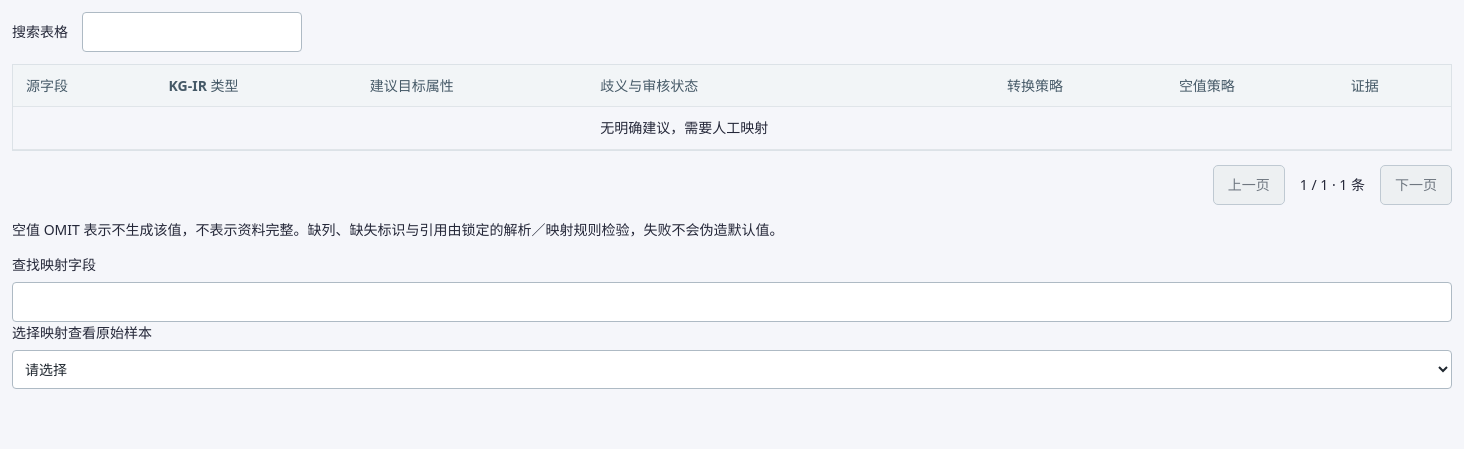
does not replace absent sample authority with a different successful ingestion
Step 1. Select "→ 待映射 · map-1" in the dropdown labelled "选择映射查看原始样本" → (732, 369), box x1=12 y1=350 x2=1452 y2=388
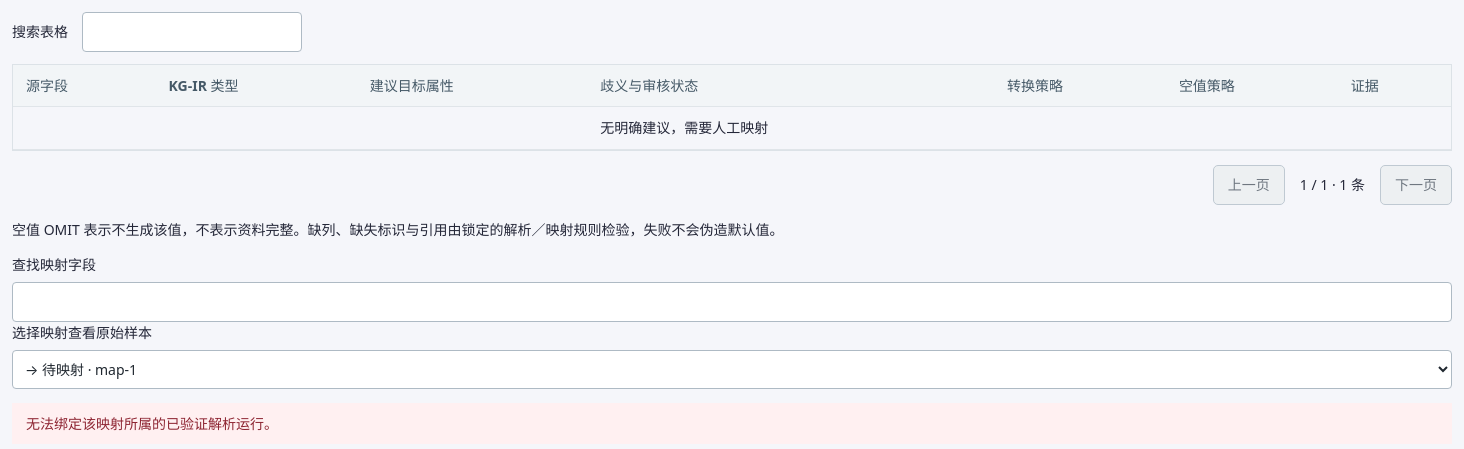
expect the message shows "无法绑定": met, box x1=26 y1=414 x2=278 y2=432
